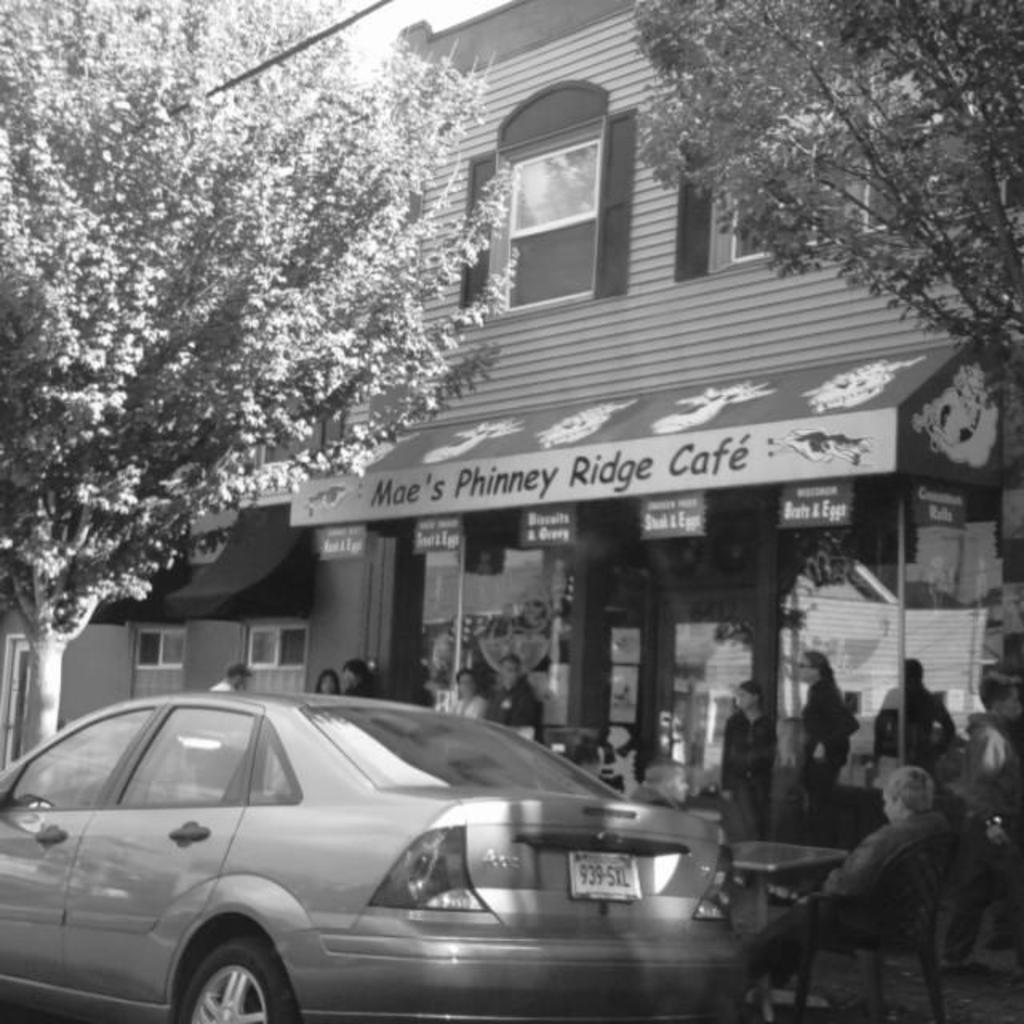Car: (0, 681, 747, 1022)
